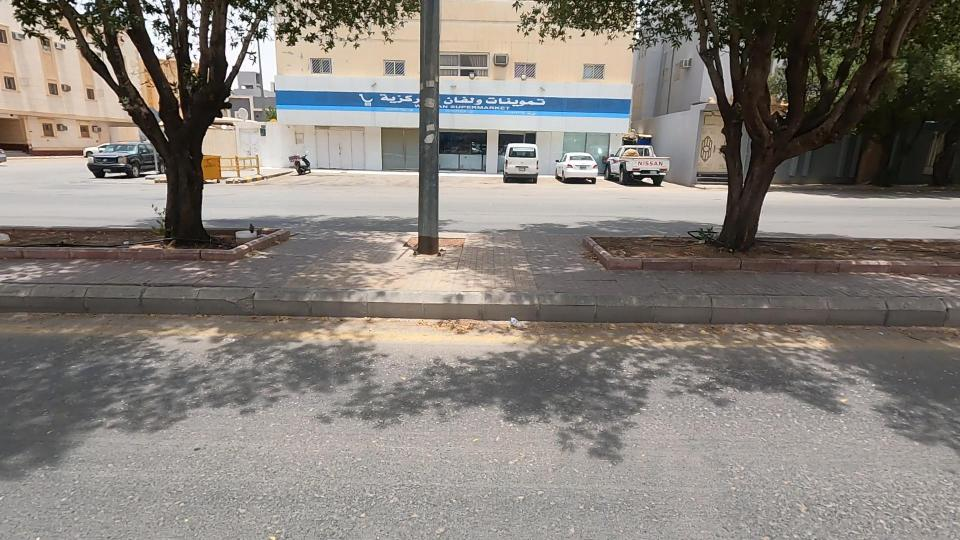CLUTTER_SIDEWALK: (0, 205, 250, 275)
GARBAGE: (485, 289, 548, 357)
